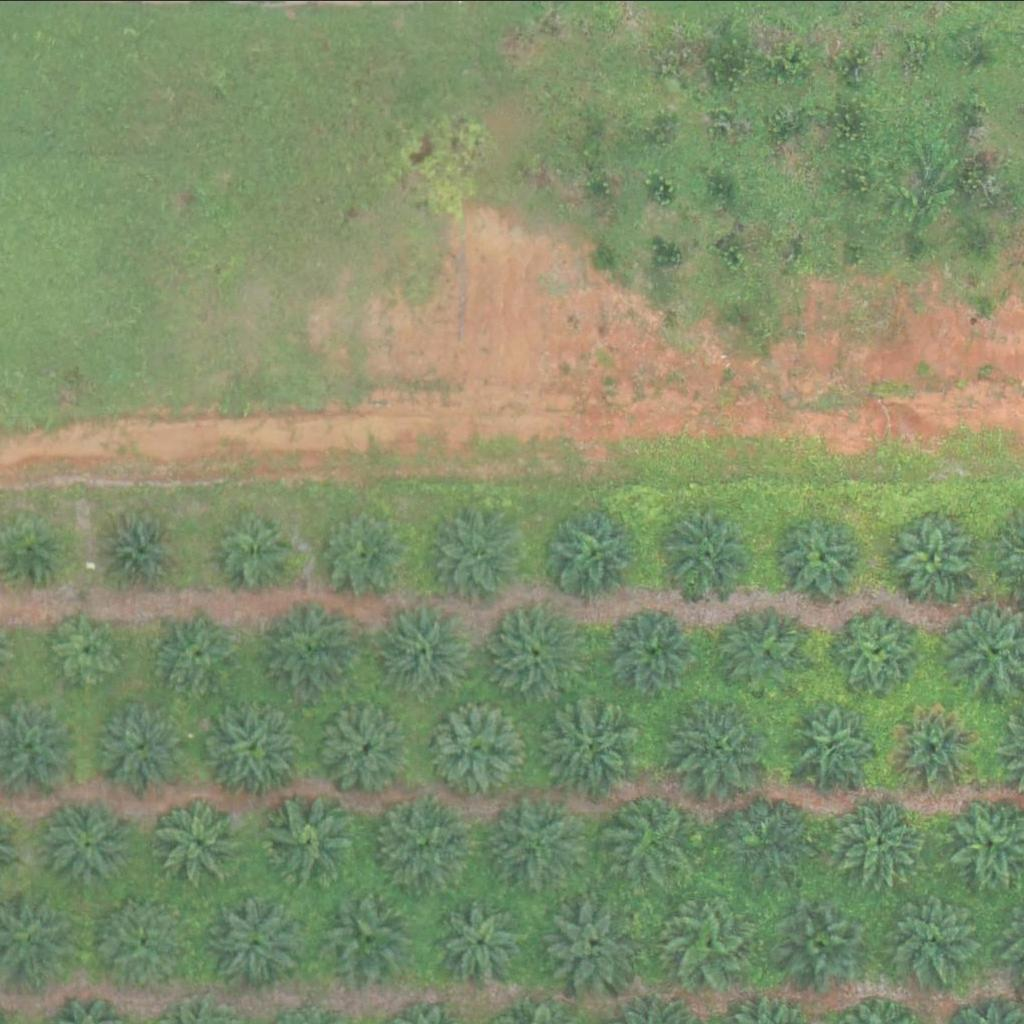Kelapa_Sawit: (316, 887, 417, 987), (369, 792, 470, 892), (490, 787, 591, 887), (429, 696, 530, 796), (540, 697, 641, 797), (673, 696, 774, 796), (374, 594, 475, 694), (485, 601, 586, 701), (544, 502, 645, 602), (880, 886, 981, 986), (263, 598, 363, 698), (202, 698, 302, 798), (259, 792, 359, 892), (206, 892, 306, 992), (538, 893, 638, 993), (599, 784, 699, 884), (719, 785, 819, 885), (325, 702, 414, 790), (218, 508, 306, 596), (155, 605, 243, 693), (99, 704, 187, 792), (439, 897, 527, 985), (661, 898, 749, 986), (780, 895, 868, 983), (609, 608, 697, 696), (665, 506, 753, 594), (779, 510, 867, 598), (889, 509, 977, 597), (836, 795, 924, 883), (99, 505, 187, 592), (47, 800, 135, 887), (158, 797, 246, 884), (107, 897, 195, 984), (721, 605, 809, 692), (319, 509, 407, 596), (434, 509, 522, 596), (793, 700, 881, 787), (832, 608, 920, 695), (890, 704, 978, 791), (53, 609, 128, 684)
